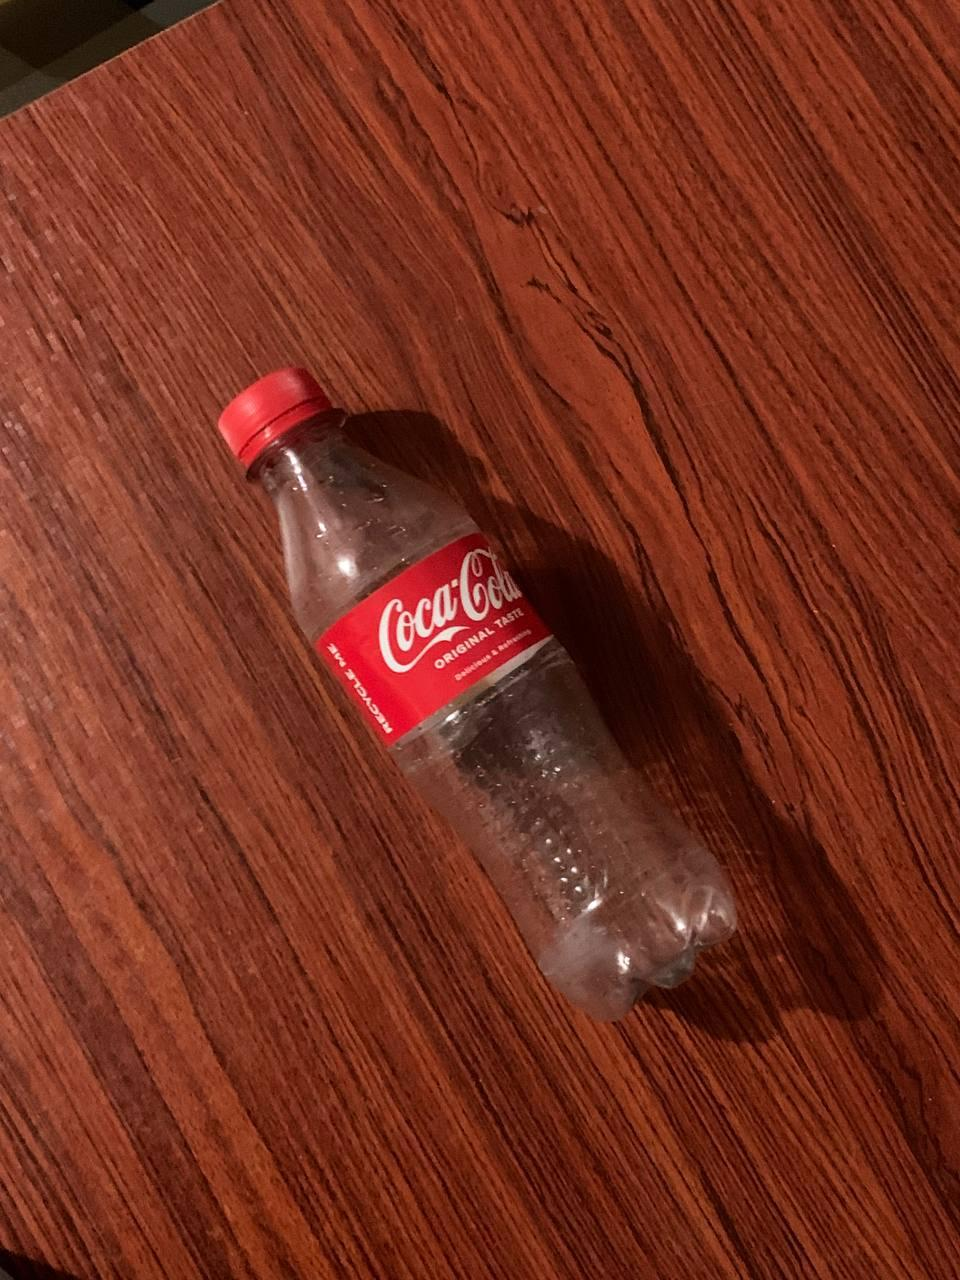plastic: (153, 346, 781, 1039)
